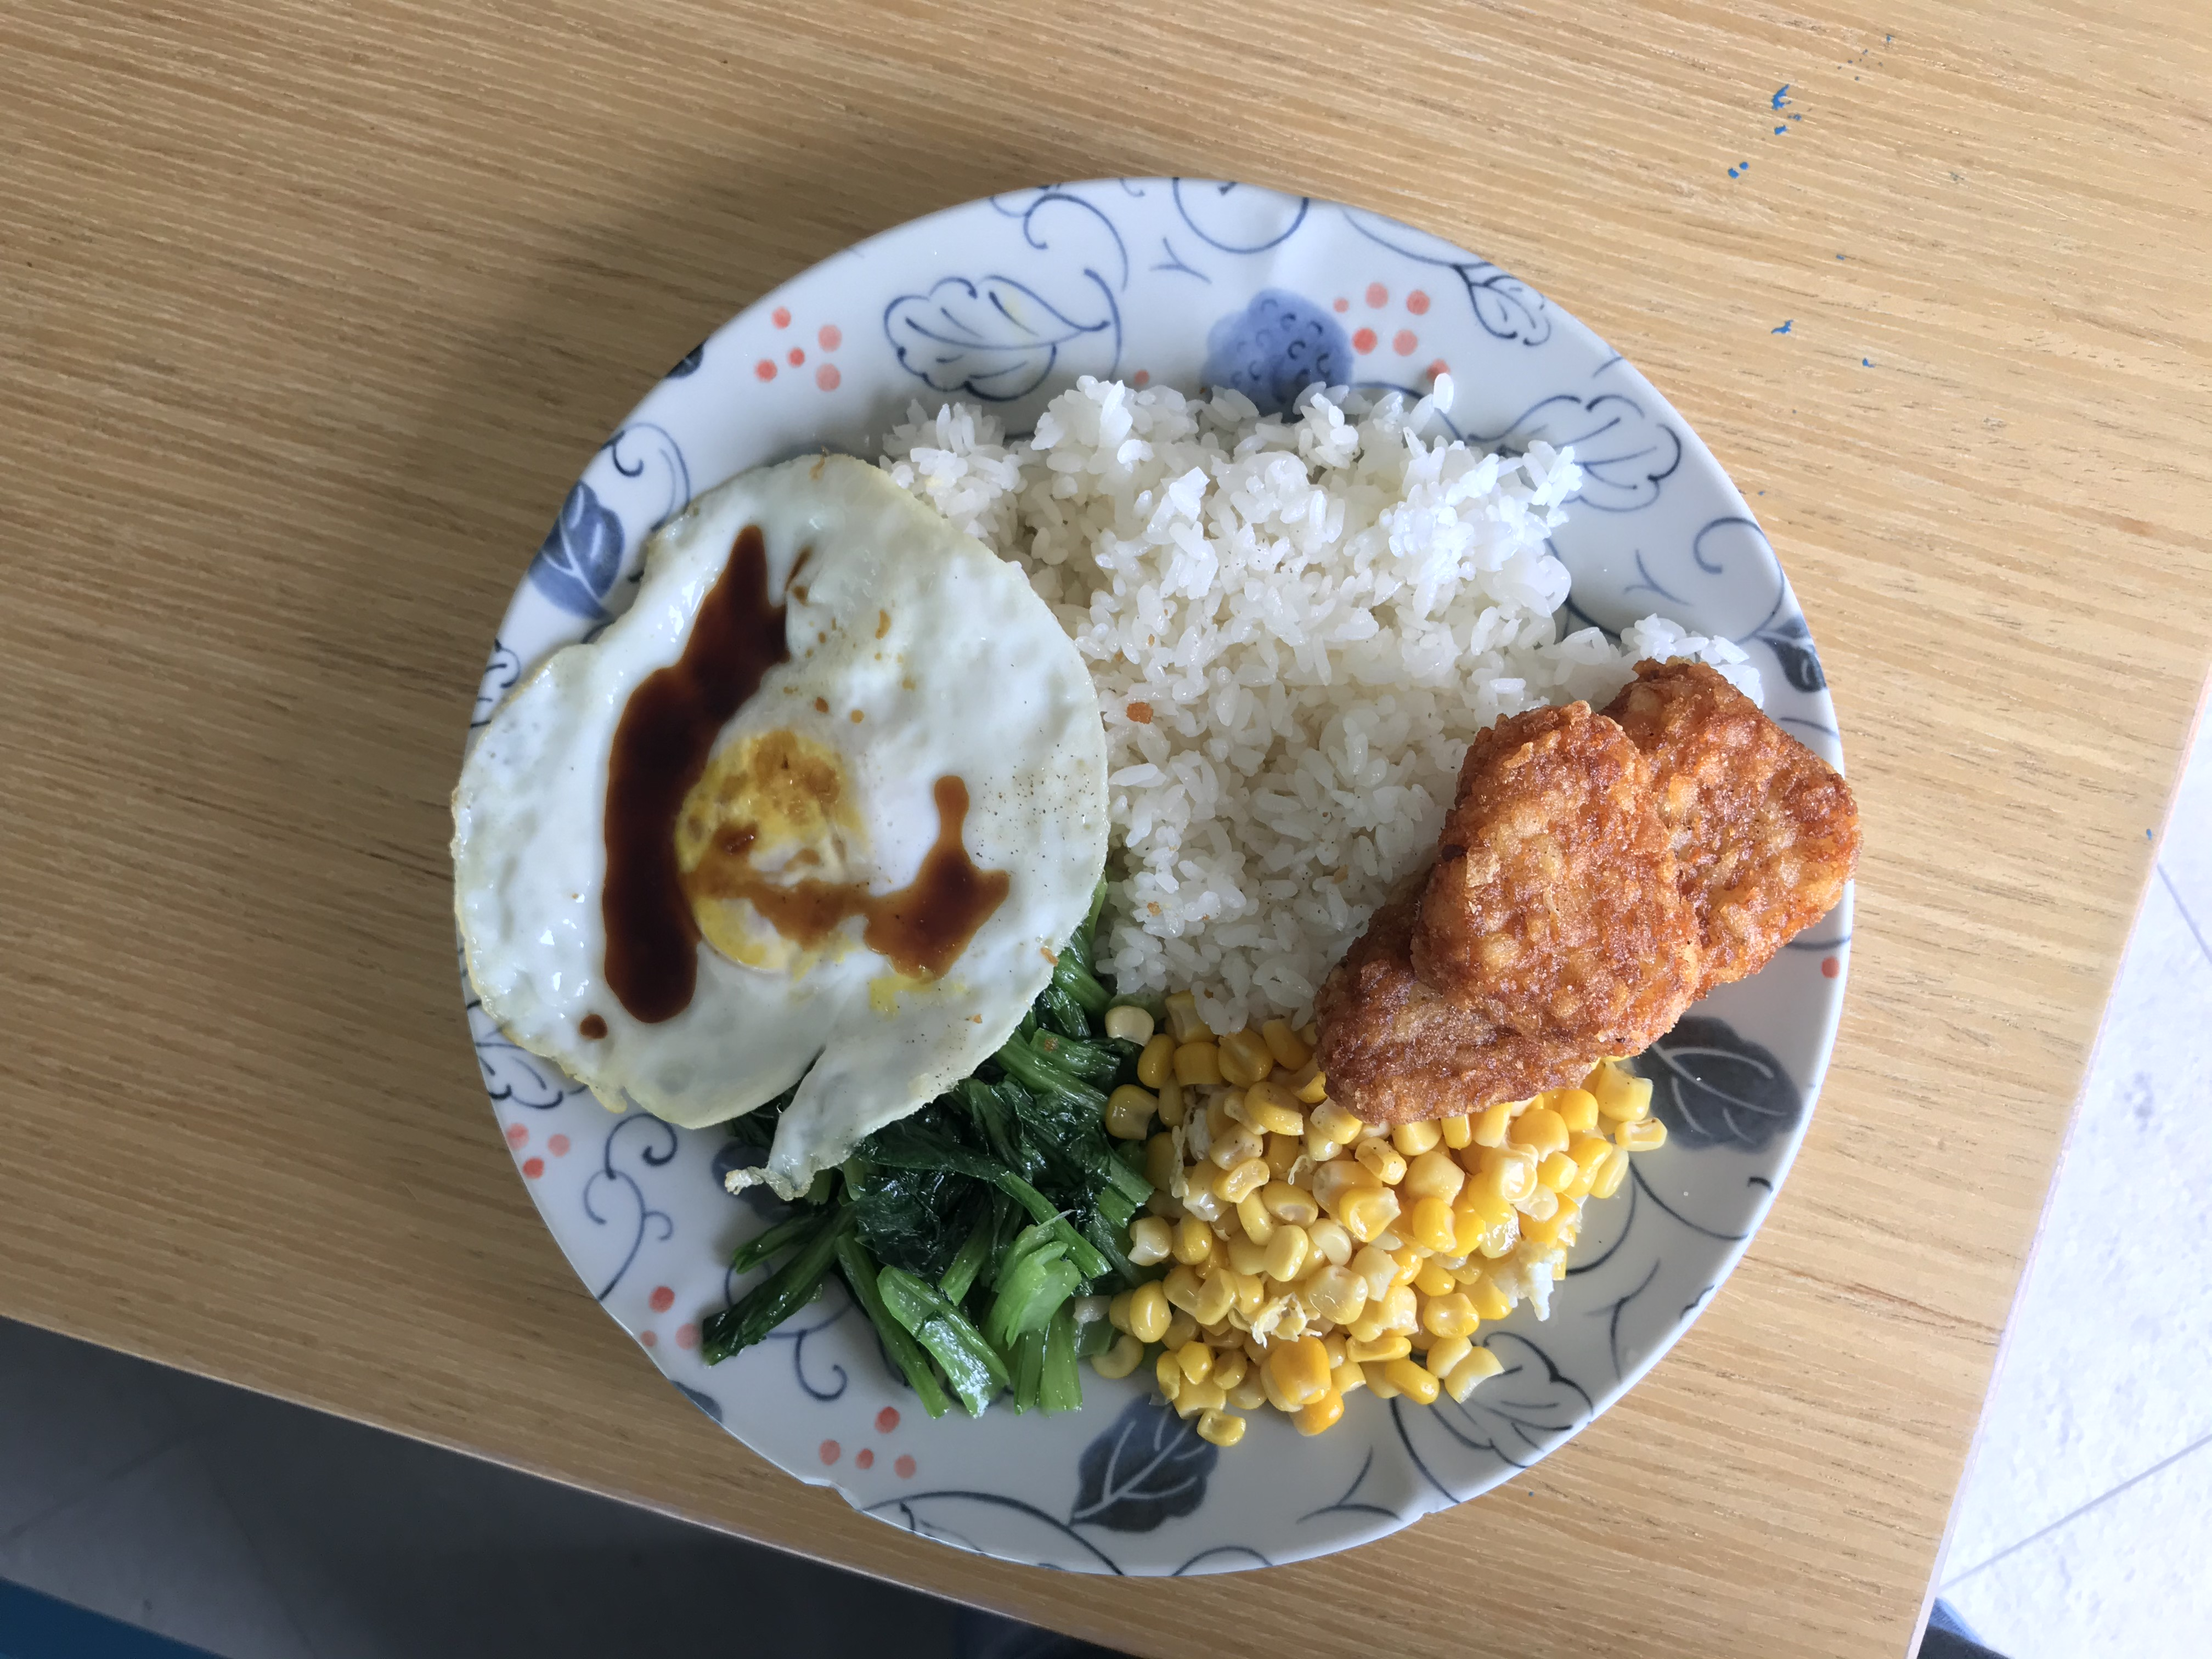fried_eggs: (449, 450, 1111, 1119)
rice: (1109, 361, 1484, 922)
triangle_hash_brown: (1320, 655, 1858, 1121)
water_spinach: (700, 920, 1143, 1417)
